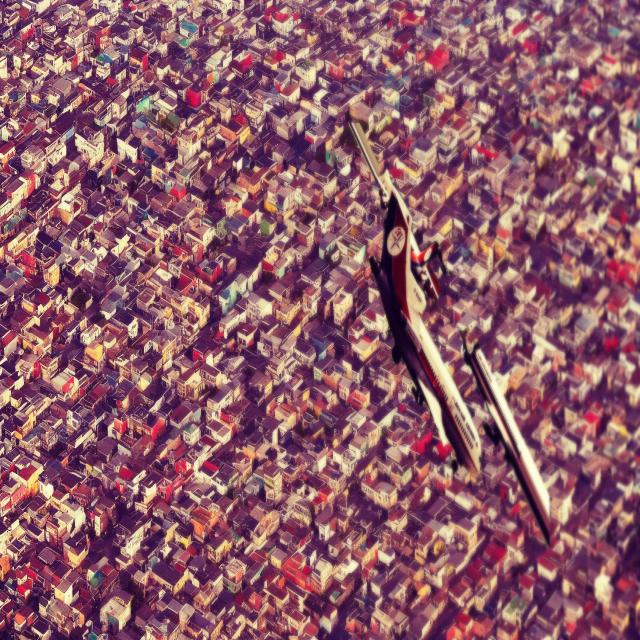airplane: (349, 124, 550, 540)
